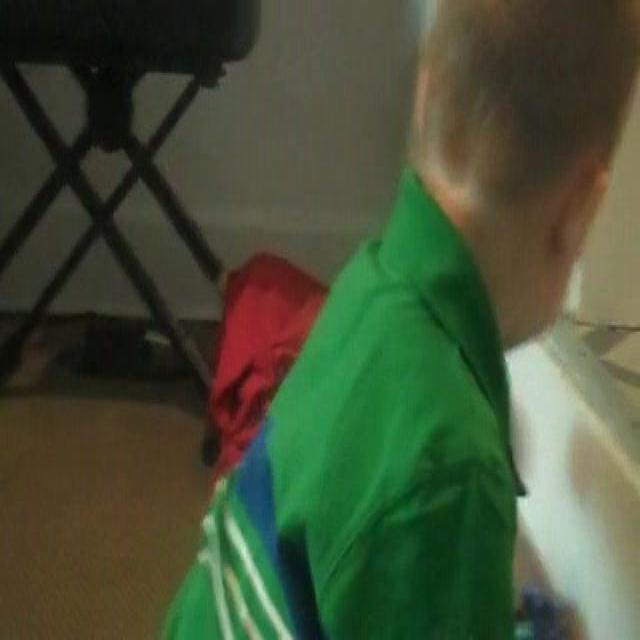other: (197, 254, 338, 428)
